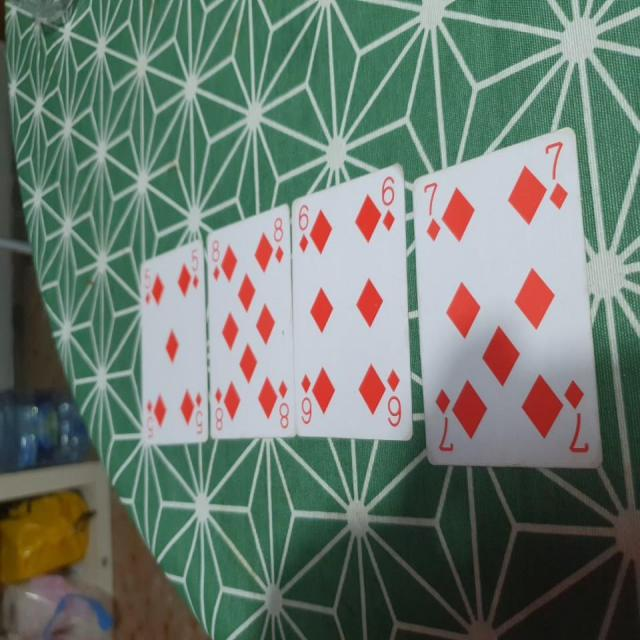5 Diamonds: (134, 239, 210, 440)
6 Diamonds: (290, 162, 411, 445)
7 Diamonds: (410, 127, 602, 470)
8 Diamonds: (205, 205, 297, 438)
